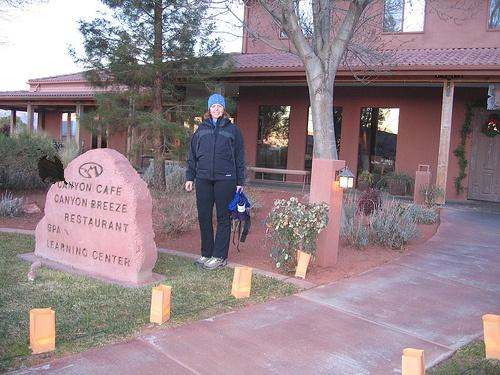tampered: (38, 149, 92, 187)
